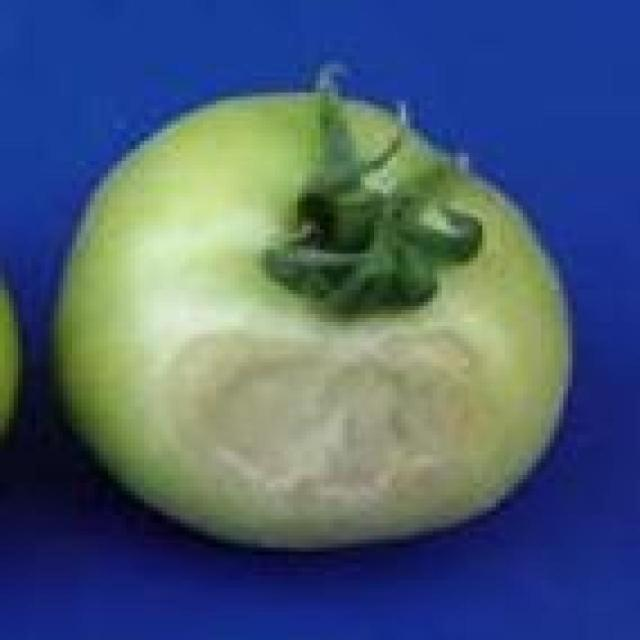Sunscald Fruit: (110, 204, 329, 330)
